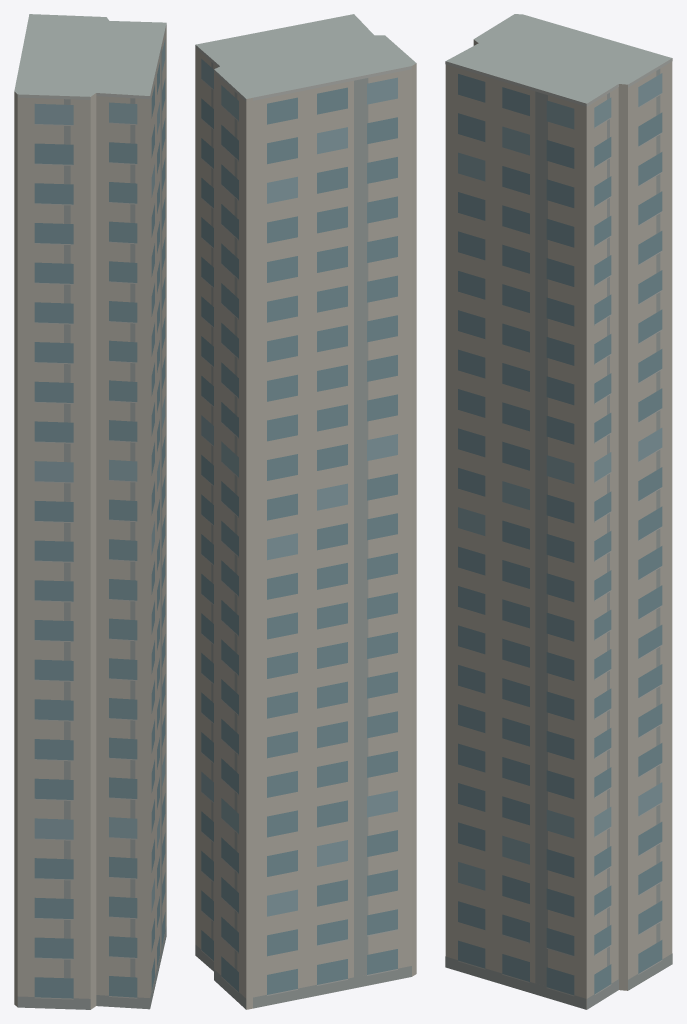
The model's file is survey-upis-32853587.glb.
The picture shows the model from 3 angles, left to right: view 1: azimuth 30°, elevation 25°; view 2: azimuth 150°, elevation 25°; view 3: azimuth 270°, elevation 25°; orthographic projection.
Parts seen in each view (by area): view 1: survey-upis-32853587.tmp; view 2: survey-upis-32853587.tmp; view 3: survey-upis-32853587.tmp.
Boxes of the visible parts, x1=… form: survey-upis-32853587.tmp: x1=14, y1=14, x2=166, y2=1009; survey-upis-32853587.tmp: x1=195, y1=14, x2=416, y2=1009; survey-upis-32853587.tmp: x1=445, y1=14, x2=672, y2=1009.
Bounding box in the file's own units: 14.91 × 70.15 × 15.93.
